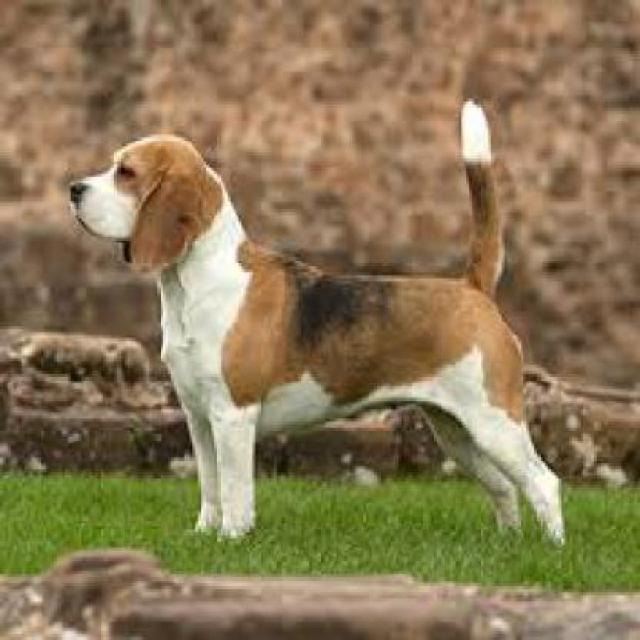Dog: (71, 97, 571, 560)
